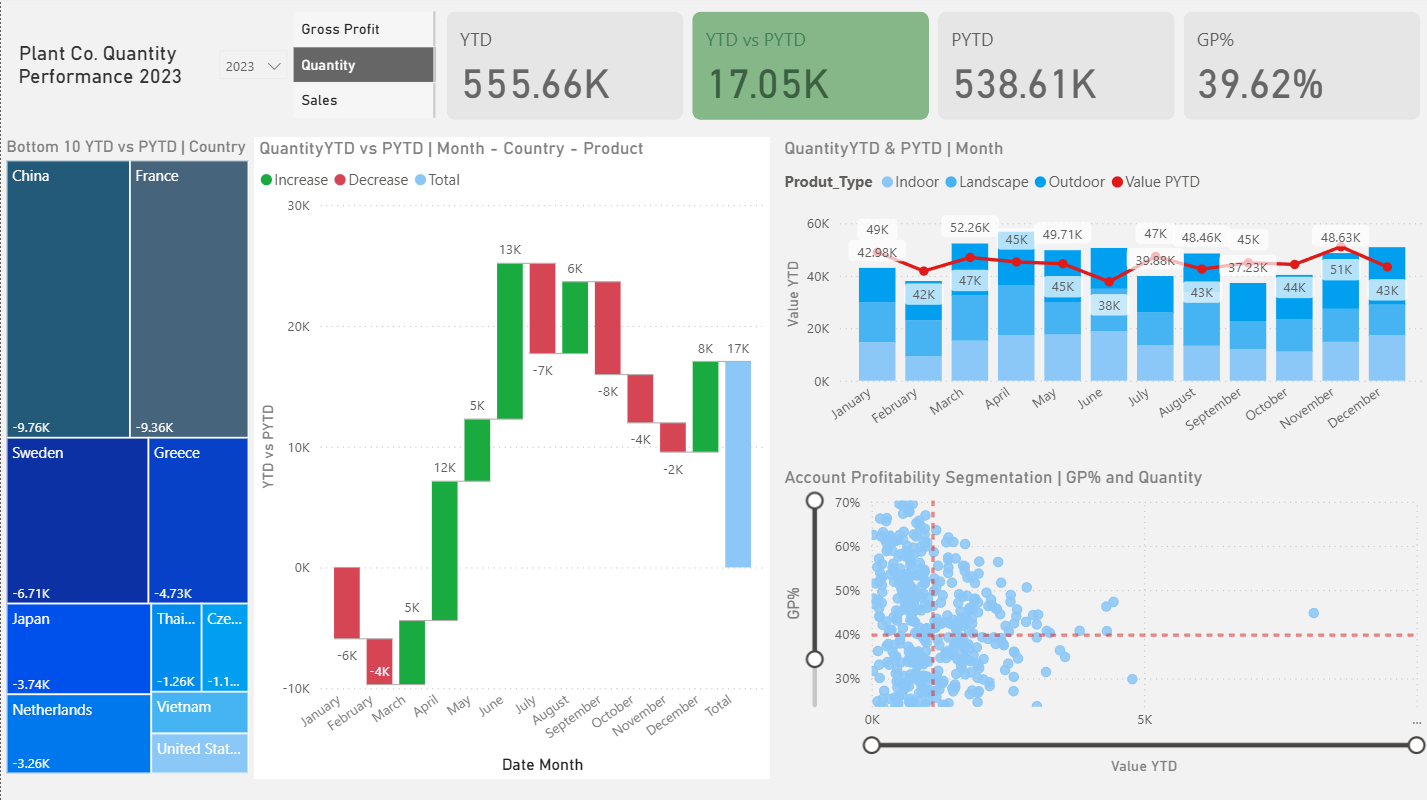

Layout of this report page (visuals, bound fields, positions):
{"tool":"powerbi","page":{"name":"Performance Report","canvas":[1280,720],"ordinal":0},"visuals":[{"type":"cardVisual","fields":{"Data":["_Measures.S_YTD","_Measures.YTD vs PYTD","_Measures.S_PYTD","_Measures.GP%"]},"box":[394,8.1,885.7,107.5],"z":0},{"type":"advancedSlicerVisual","fields":{"Values":["Slc_Values.Values"]},"box":[257,8.1,137,107.5],"z":1000},{"type":"slicer","fields":{"Values":["Dim_Date.Date.Variation.Date Hierarchy.Year"]},"box":[185.4,37.6,81.5,43.9],"z":2000},{"type":"treemap","title":"Bottom 10 YTD vs PYTD | Country","fields":{"Values":["_Measures.YTD vs PYTD"],"Group":["Dim_Account.country"]},"box":[0,125.4,226.6,574.9],"z":3000},{"type":"waterfallChart","fields":{"Y":["_Measures.YTD vs PYTD"],"Category":["Dim_Date.Date.Variation.Date Hierarchy.Month","Dim_Account.country","Dim_Product.Produt_Type","Dim_Product.Product_Name_id"]},"box":[226.6,125.4,462.1,574.9],"z":4000},{"type":"lineStackedColumnComboChart","fields":{"Y":["_Measures.S_YTD"],"Y2":["_Measures.S_PYTD"],"Category":["Dim_Date.Date.Variation.Date Hierarchy.Quarter","Dim_Date.Date.Variation.Date Hierarchy.Month"],"Series":["Dim_Product.Produt_Type"]},"box":[696.7,125.4,583,286.6],"z":5000},{"type":"scatterChart","fields":{"Y":["_Measures.GP%"],"X":["_Measures.S_YTD"],"Category":["Dim_Account.Account"]},"box":[696.7,420,583,280.3],"z":6000},{"type":"card","fields":{"Values":["_Measures._Report title"]},"box":[0,14.3,178.2,91.3],"z":6001}]}

Visuals, with their boxes in screenshot pixels (x1, y1, x2, y2), scaled from the page's 1280x720 canvas onto the 1427x800 screenshot:
cardVisual - _Measures.S_YTD x _Measures.YTD vs PYTD: [left=439, top=9, right=1426, bottom=128]
advancedSlicerVisual - Slc_Values.Values: [left=287, top=9, right=439, bottom=128]
slicer - Dim_Date.Date.Variation.Date Hierarchy.Year: [left=207, top=42, right=298, bottom=91]
"Bottom 10 YTD vs PYTD | Country" treemap: [left=0, top=139, right=253, bottom=778]
waterfallChart - _Measures.YTD vs PYTD x Dim_Date.Date.Variation.Date Hierarchy.Month: [left=253, top=139, right=768, bottom=778]
lineStackedColumnComboChart - _Measures.S_YTD x _Measures.S_PYTD: [left=777, top=139, right=1426, bottom=458]
scatterChart - _Measures.GP% x _Measures.S_YTD: [left=777, top=467, right=1426, bottom=778]
card - _Measures._Report title: [left=0, top=16, right=199, bottom=117]
